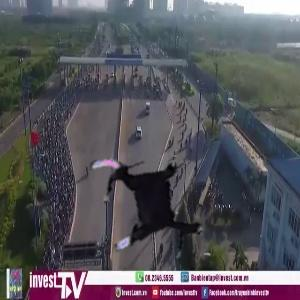drone: (73, 136, 217, 280)
